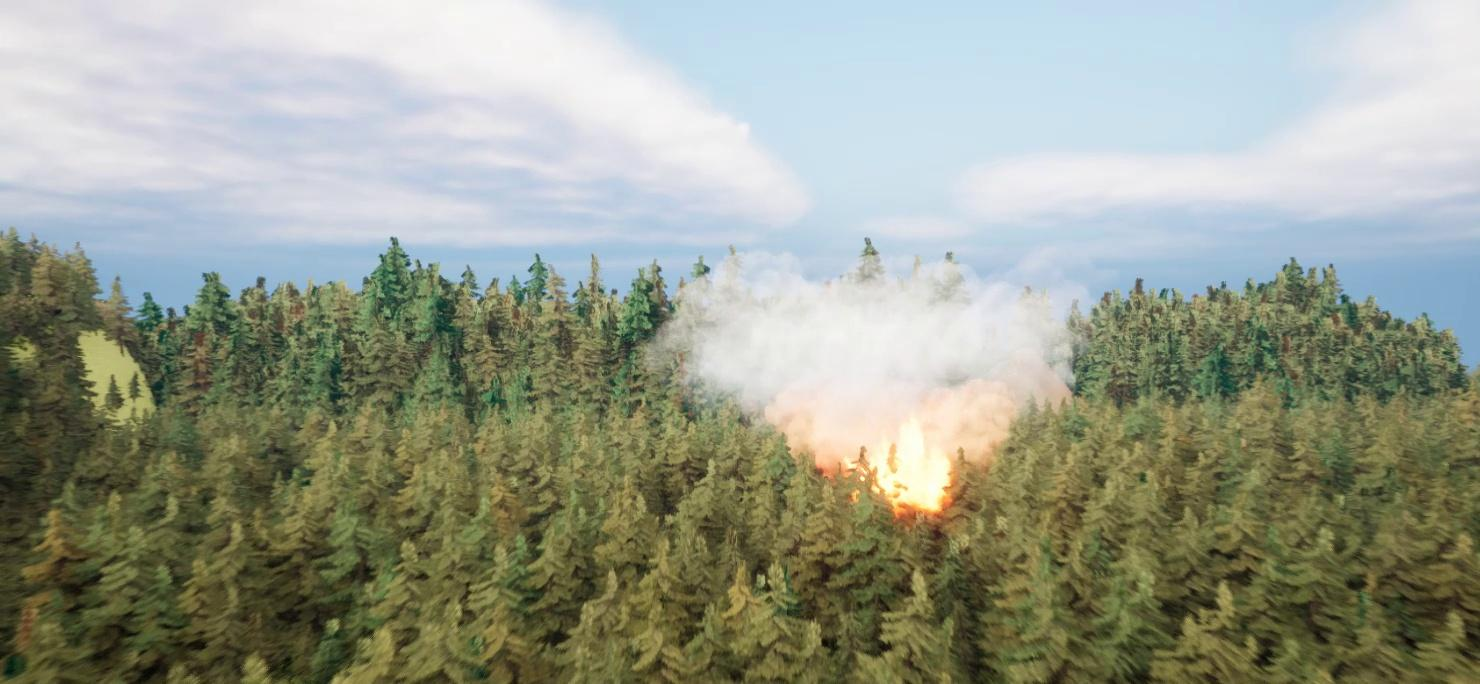fire: (859, 417, 970, 519)
smoke: (636, 250, 1095, 473)
